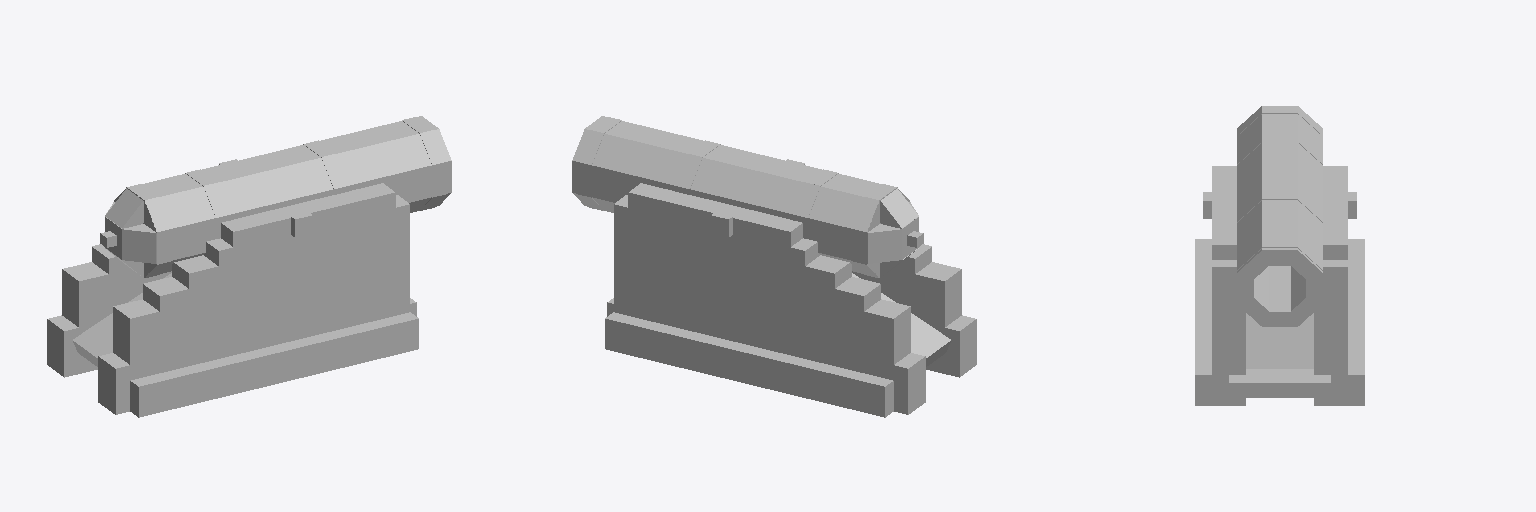
The model's file is cannon.obj.
3 views of the same model, side by side, from view 1: azimuth 30°, elevation 25°; view 2: azimuth 150°, elevation 25°; view 3: azimuth 270°, elevation 25° (orthographic).
Visible parts, largest first — view 1: cube, octagon; view 2: cube, octagon; view 3: cube, octagon.
Part boxes in pixels (bbox=[...]): cube: bbox=[47, 159, 418, 417]; octagon: bbox=[100, 116, 451, 277]; cube: bbox=[605, 159, 976, 417]; octagon: bbox=[572, 116, 923, 277]; cube: bbox=[1195, 166, 1364, 405]; octagon: bbox=[1237, 106, 1322, 326].
Bounding box in the file's own units: 2.22 × 1.11 × 0.9375.